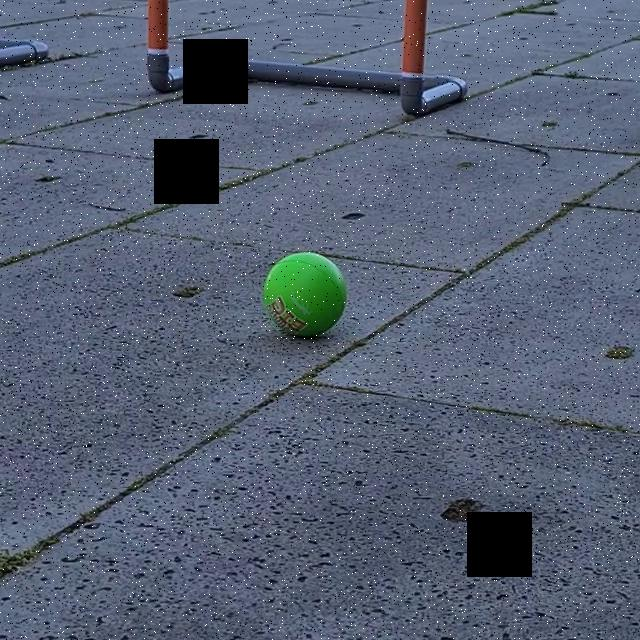ball: (262, 249, 351, 342)
